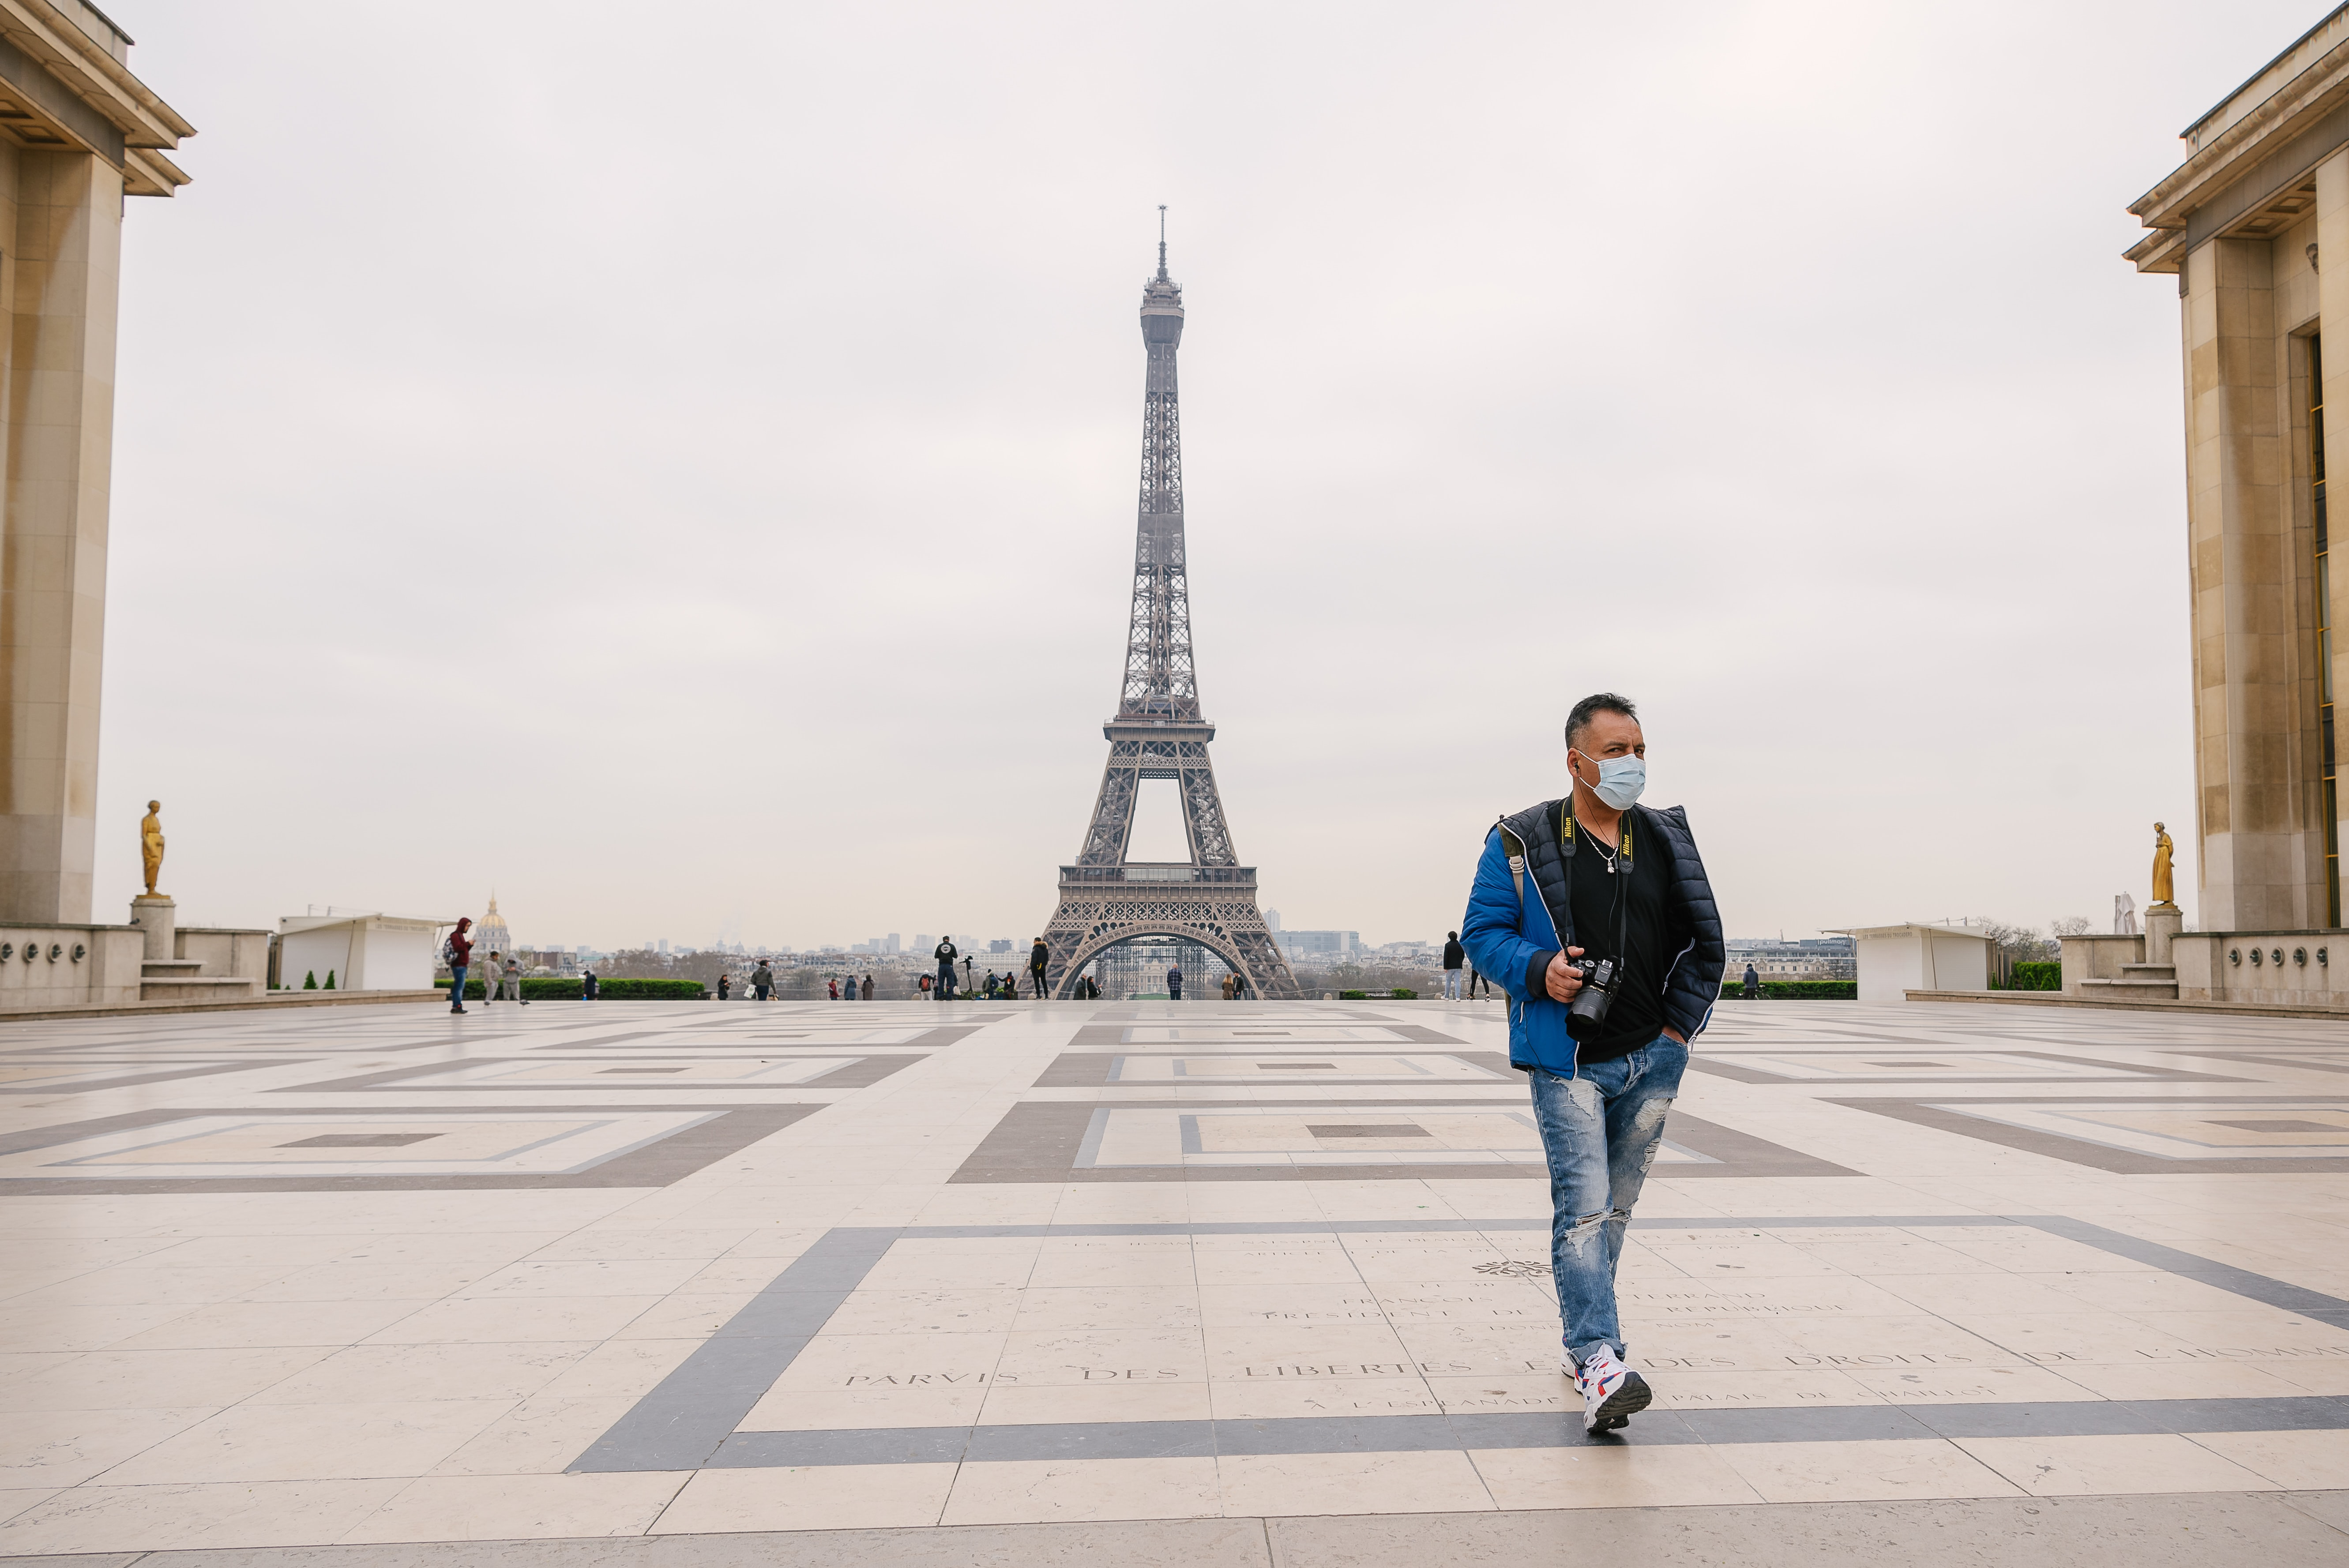mask: (1586, 753, 1653, 809)
person: (1428, 682, 1776, 1459)
